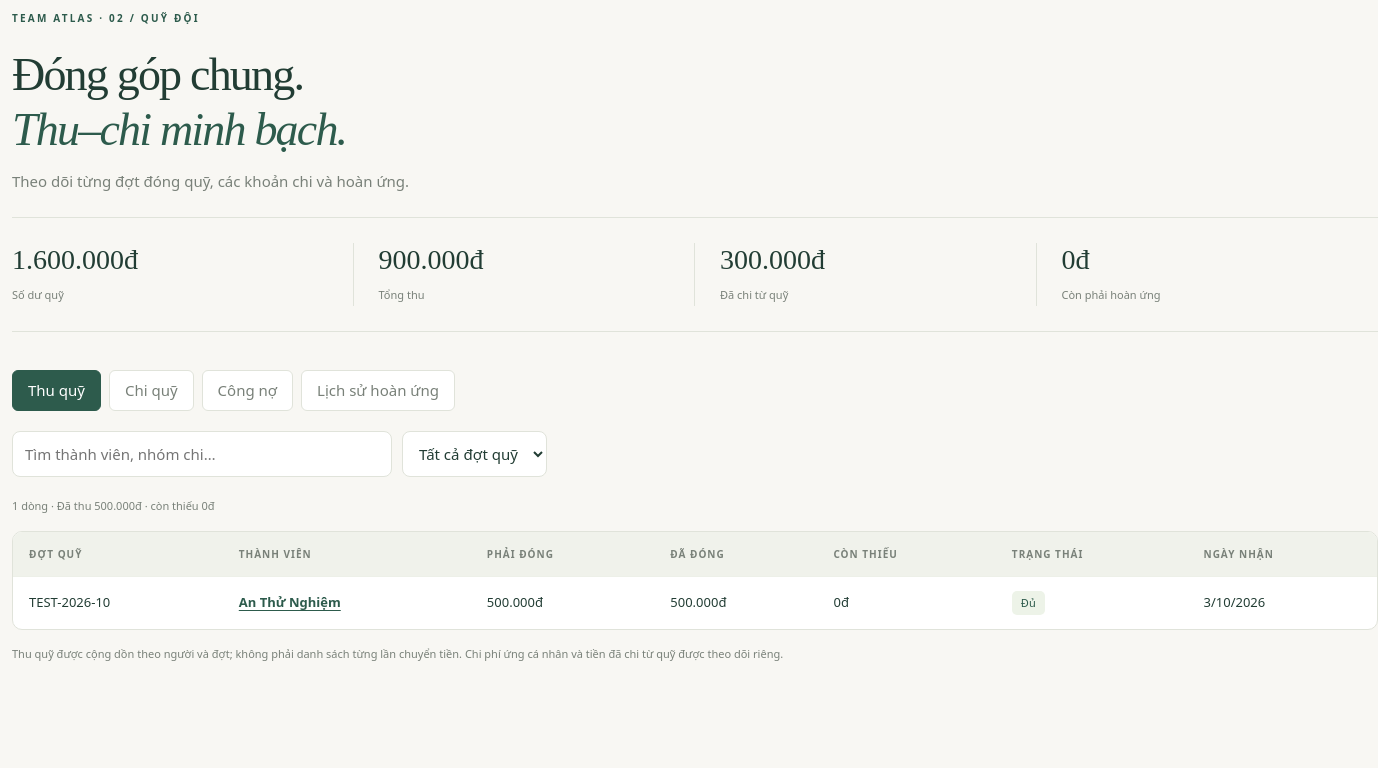
Test: FinancePage › switches between the four tabs with their own controls
This screenshot has width=1378, height=768.
Click the button "Chi quỹ": (151, 390) [109, 370, 194, 411]
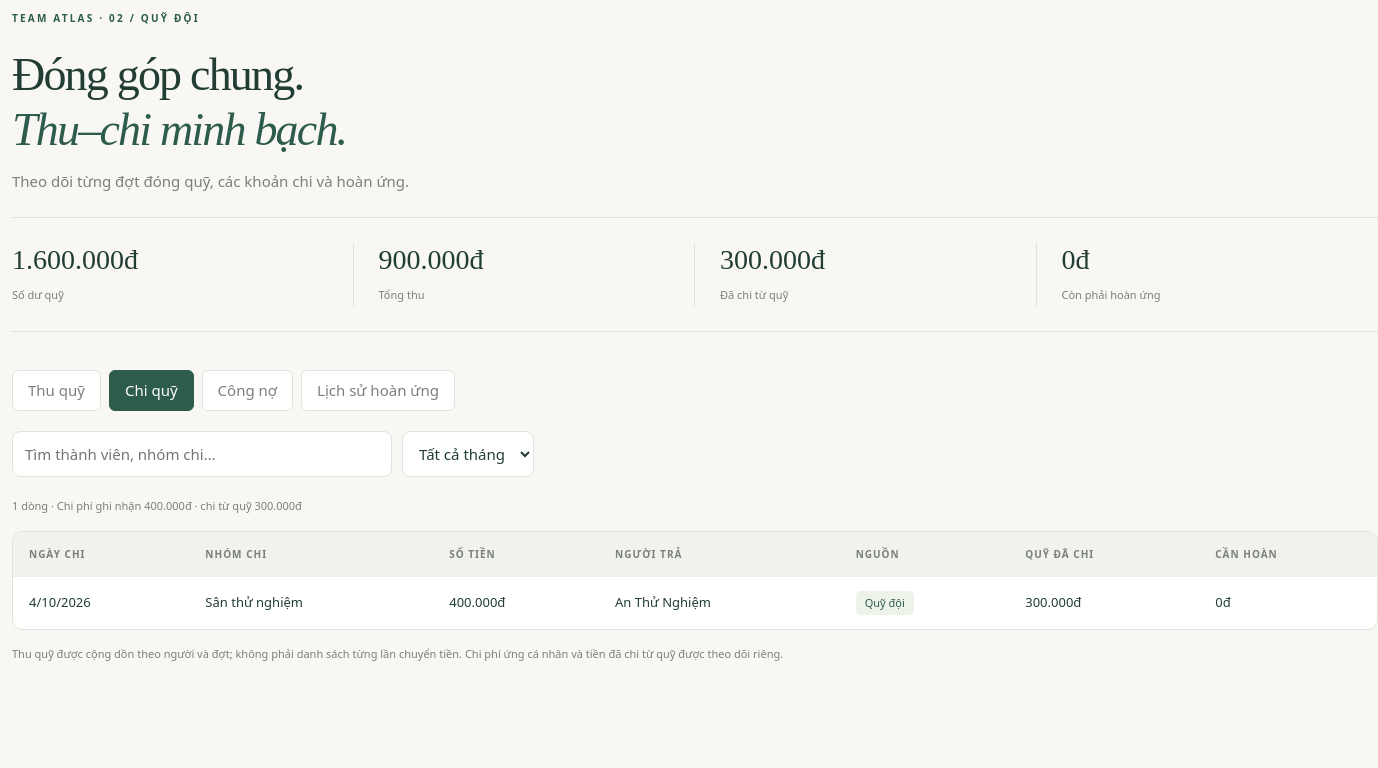
Check: the dropdown named "Lọc tháng" shows "Tất cả tháng", box [402, 431, 534, 478]
Check: the text "Sân thử nghiệm" is shown, box [189, 577, 433, 629]
Click the button "Công nợ": (247, 390) [202, 370, 293, 411]
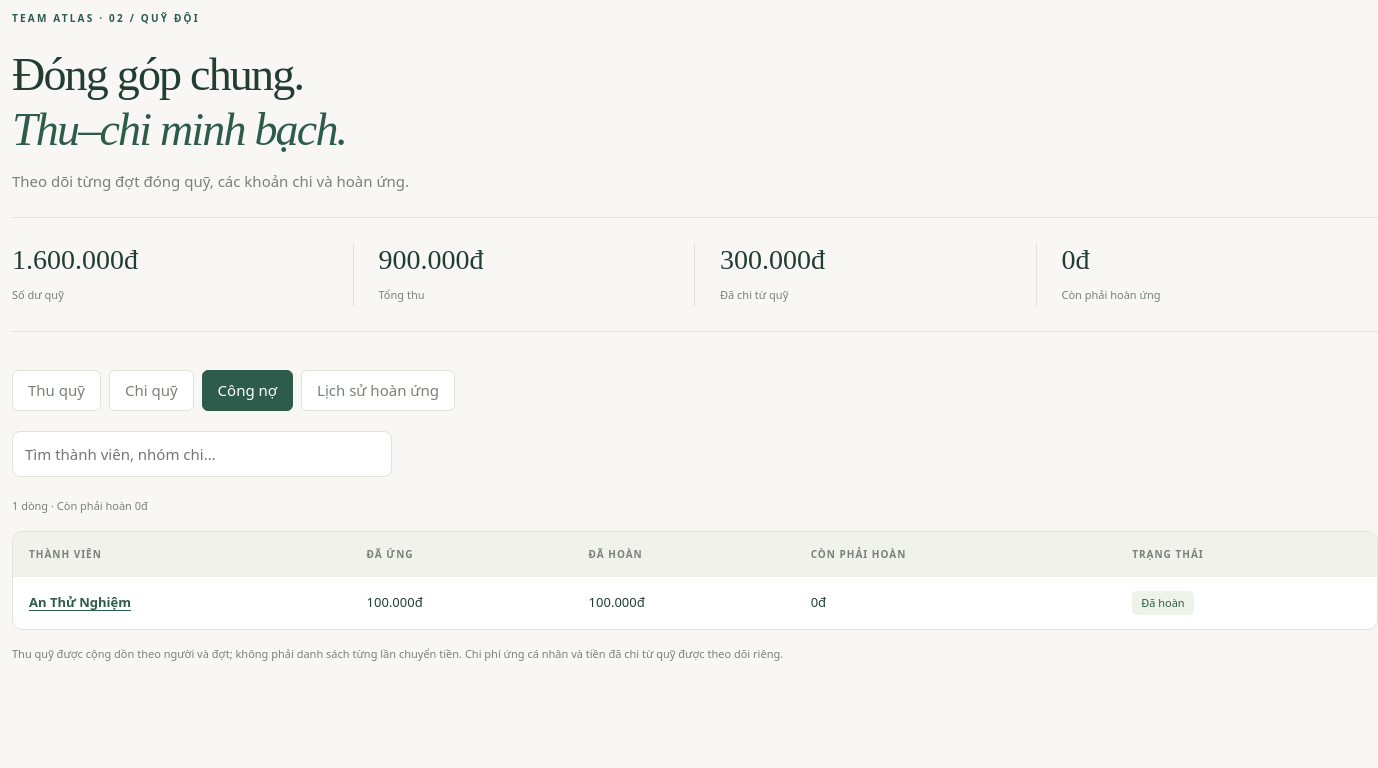
Check: the column heading "Còn phải hoàn" is shown, box [795, 532, 1116, 577]
Click the button "Lịch sử hoàn ứng": (378, 390) [301, 370, 455, 411]
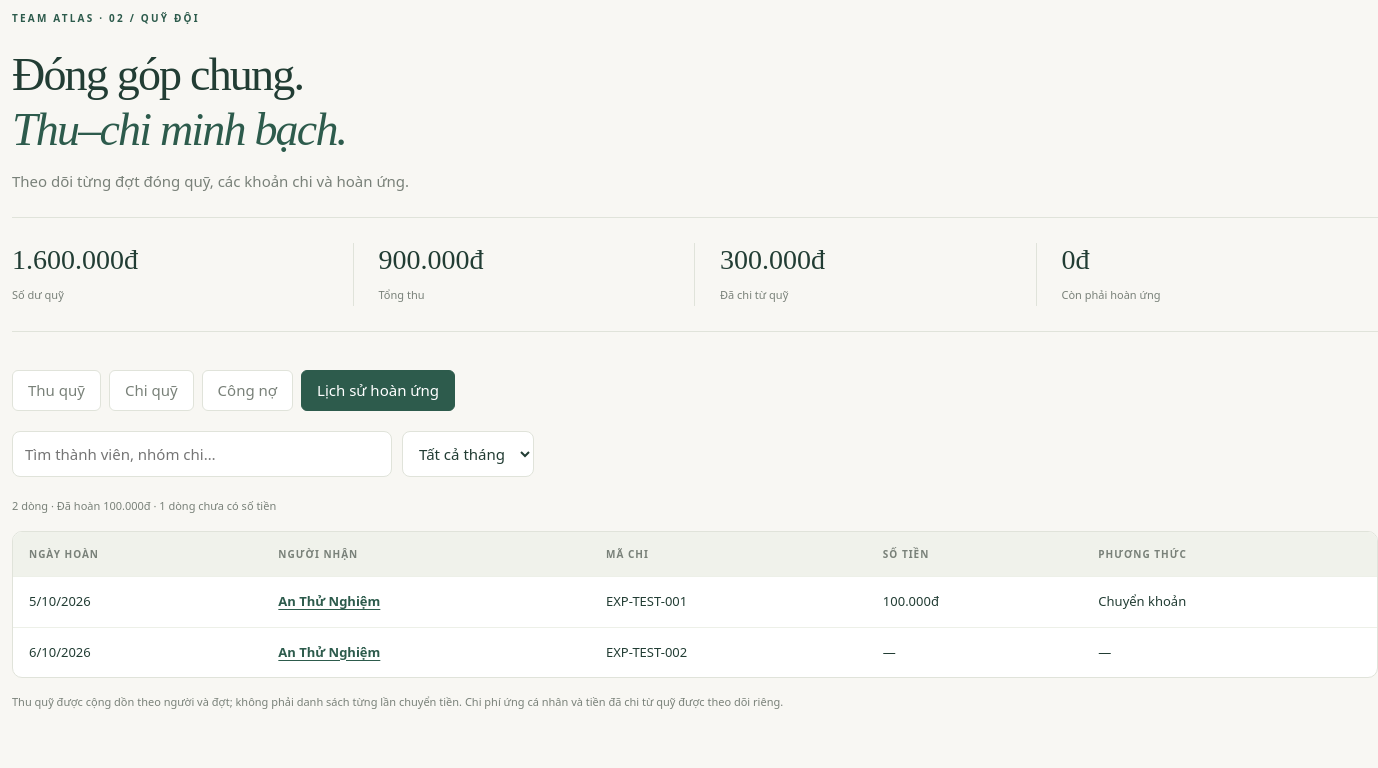
Check: the text "EXP-TEST-001" is shown, box [590, 577, 867, 627]
Check: the dropdown named "Lọc tháng" is shown, box [402, 431, 534, 478]
Check: the message shows "1 dòng chưa có số tiền", box [12, 498, 276, 514]
